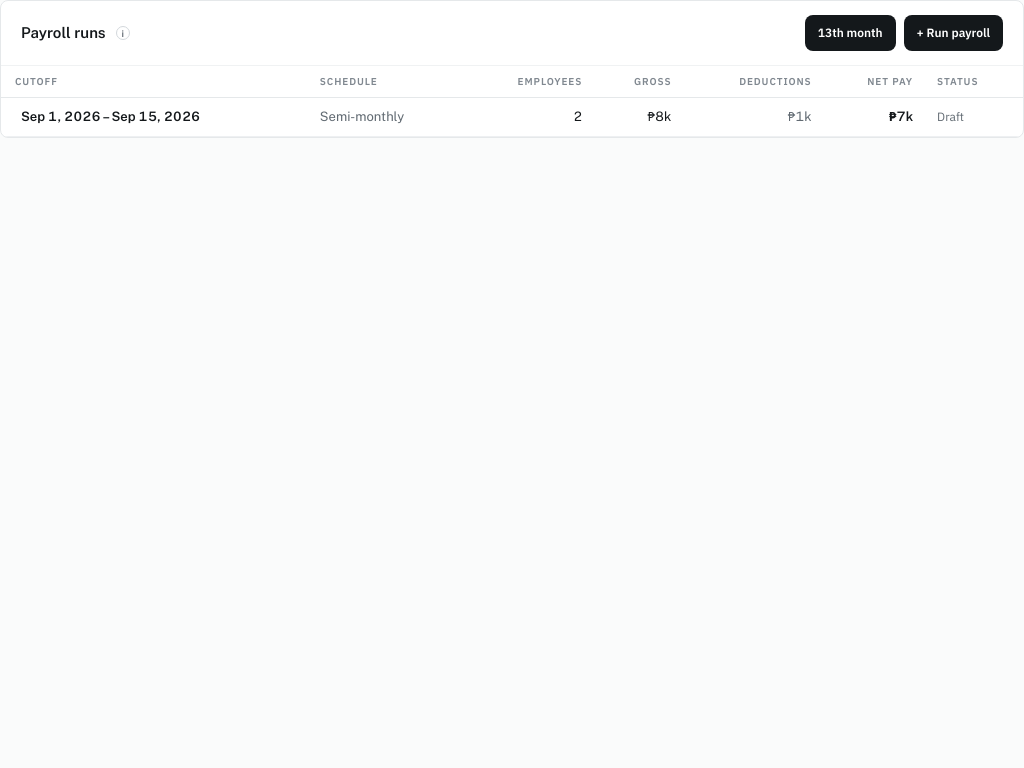
it: Payroll run › opens a payslip as its own record, with the arithmetic in the rail
Click the row "Sep 1, 2026 – Sep 15, 2026 Semi-monthly 2 ₱8k ₱1k ₱7k Draft" at coordinates (512, 117), box 1,98 -> 1023,136
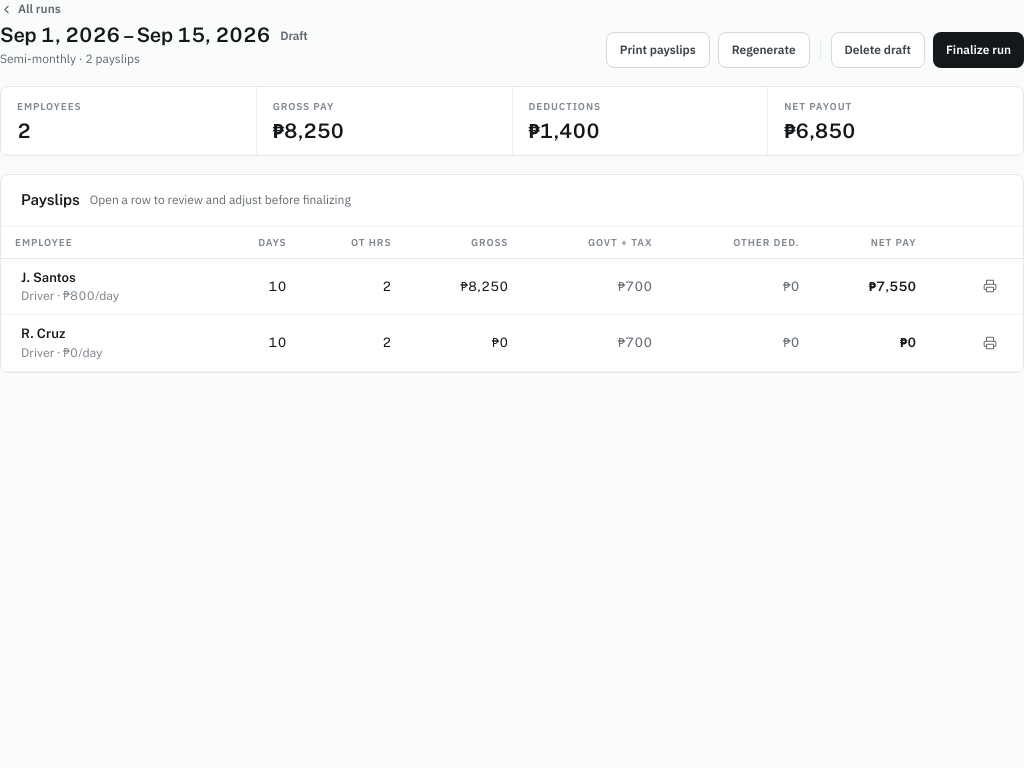
Click the row "J. Santos Driver · ₱800/day 10 2 ₱8,250 ₱700 ₱0 ₱7,550" at coordinates (512, 286), box 1,258 -> 1023,314
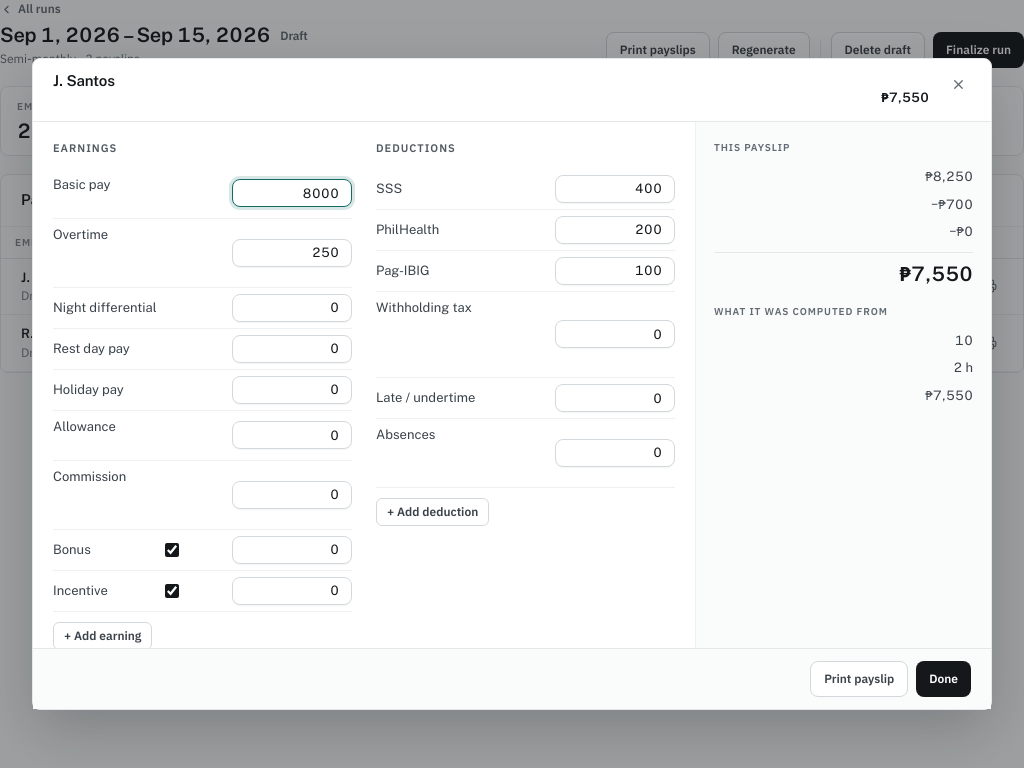
Expected: the text "Earnings" is shown, 53,140 -> 117,157
Expected: the text "Deductions" is shown, 376,140 -> 456,157
Expected: the number field named "Basic pay" is shown, 232,179 -> 352,207
